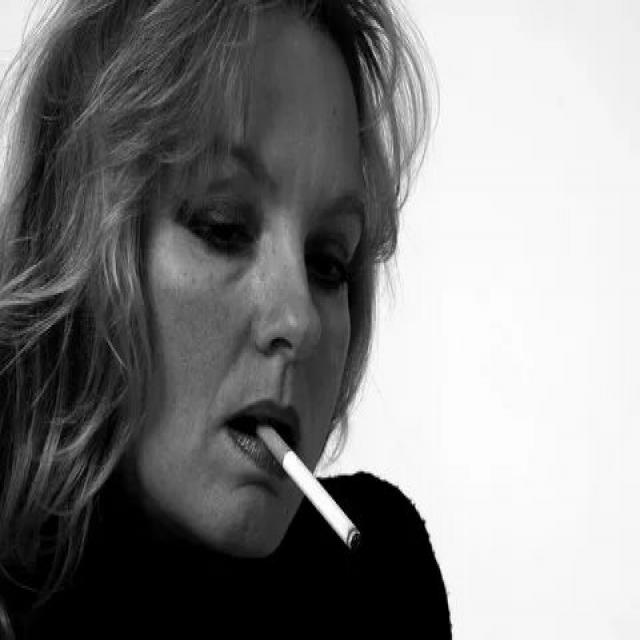smoke: (255, 411, 365, 564)
